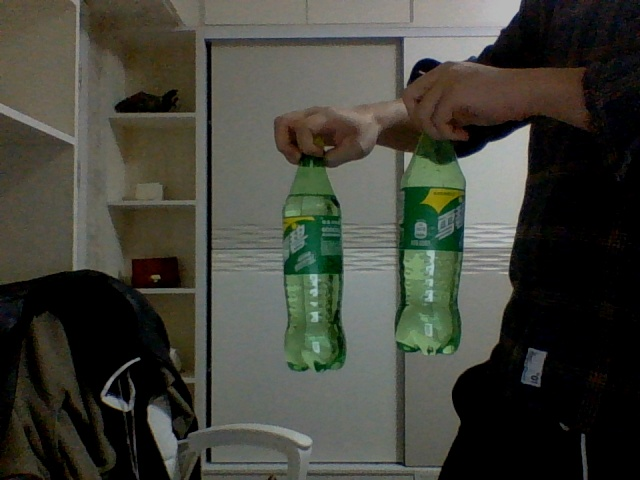Sprite: (393, 130, 467, 354), (283, 135, 342, 373)
